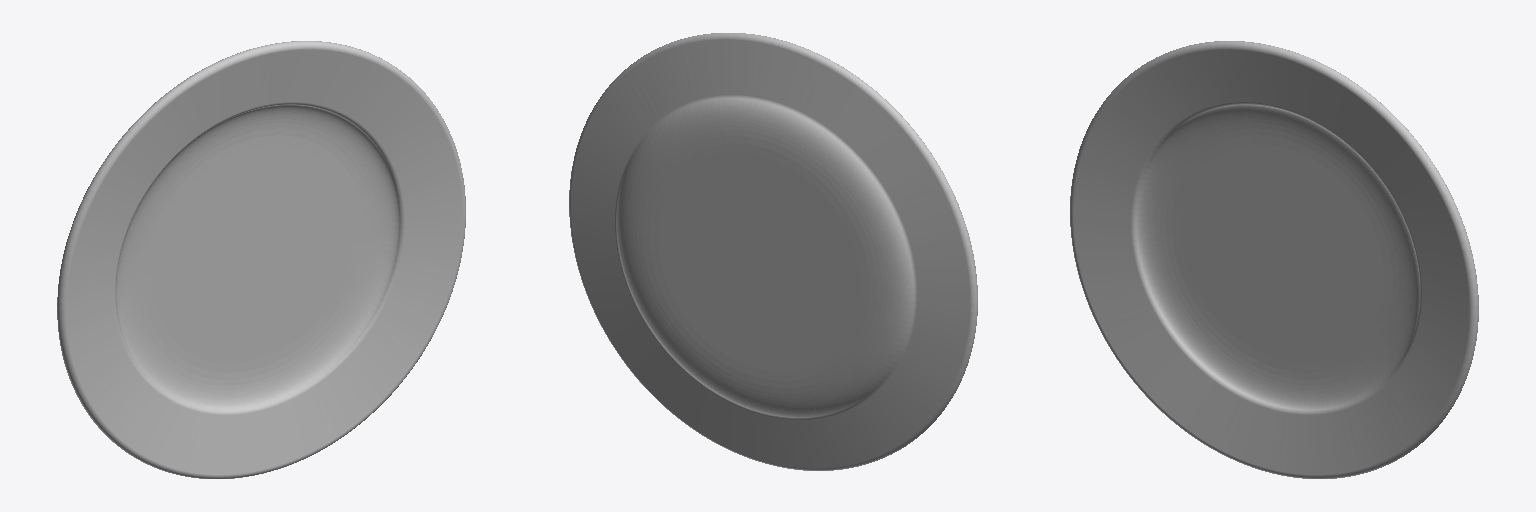
File: Plate.obj
3 views of the same model, side by side, from view 1: azimuth 30°, elevation 25°; view 2: azimuth 150°, elevation 25°; view 3: azimuth 330°, elevation 25° (orthographic).
Bounding box in the file's own units: 254 × 254 × 18.48.